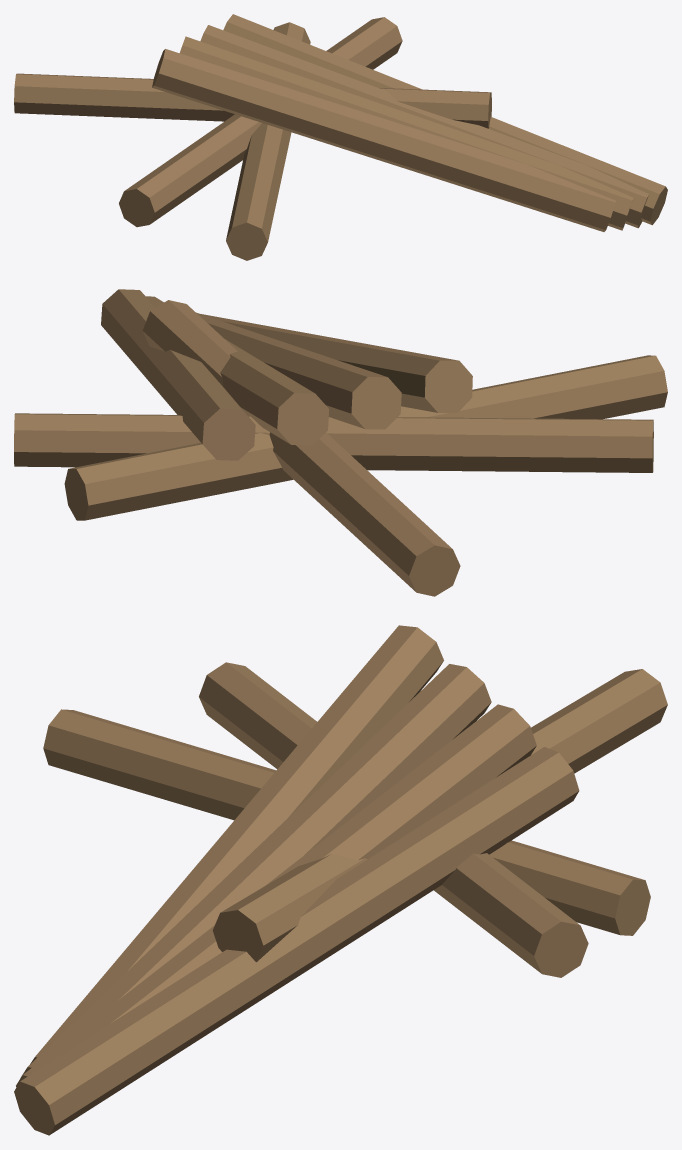
File: firewood.glb
3 renders of one model, top to bottom at view 1: azimuth 30°, elevation 25°; view 2: azimuth 150°, elevation 25°; view 3: azimuth 270°, elevation 25°, orthographic. The views are drawn at different scales.
Parts seen in each view (by area): view 1: firewood_3, firewood_6, firewood_5, firewood_2, firewood_1, firewood_0, firewood_4; view 2: firewood_5, firewood_4, firewood_6, firewood_0, firewood_2, firewood_3, firewood_1; view 3: firewood_0, firewood_4, firewood_2, firewood_3, firewood_5, firewood_1, firewood_6.
Part boxes in pixels (x1,y1,x2,y2): firewood_3: (152, 49, 615, 231); firewood_6: (14, 73, 491, 128); firewood_5: (119, 17, 402, 227); firewood_2: (180, 36, 633, 230); firewood_1: (200, 25, 648, 228); firewood_0: (223, 14, 667, 225); firewood_4: (226, 22, 310, 260); firewood_5: (14, 413, 653, 472); firewood_4: (64, 355, 667, 520); firewood_6: (142, 300, 460, 596); firewood_0: (101, 289, 255, 460); firewood_2: (196, 312, 401, 429); firewood_3: (201, 314, 472, 412); firewood_1: (146, 296, 329, 445); firewood_0: (14, 747, 579, 1135); firewood_4: (43, 709, 650, 935); firewood_2: (21, 664, 491, 1076); firewood_3: (30, 625, 443, 1064); firewood_5: (199, 662, 588, 977); firewood_1: (16, 704, 536, 1086); firewood_6: (212, 669, 667, 962).
Bounding box in the file's own units: 1.05 × 0.354 × 0.8416.
